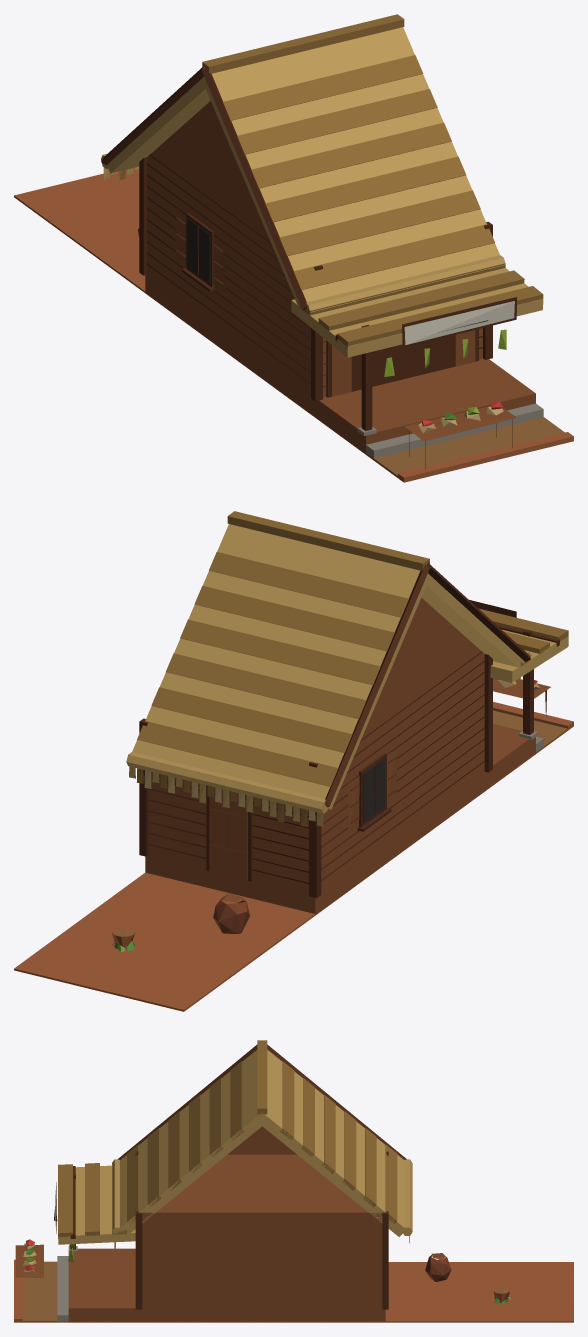
The model's file is bay1_left.glb.
3 views of the same model, one above another, from view 1: azimuth 30°, elevation 25°; view 2: azimuth 150°, elevation 25°; view 3: azimuth 270°, elevation 25° (orthographic). The views are drawn at different scales.
Visible parts, largest first — view 1: body, windows; view 2: body, windows; view 3: body.
Part boxes in pixels (x1,y1,x2,y2): body: [14, 14, 573, 482]; windows: [187, 218, 210, 283]; body: [14, 511, 573, 1011]; windows: [363, 758, 385, 823]; body: [14, 1040, 573, 1322].
Bounding box in the file's own units: 4.78 × 7 × 15.9.
